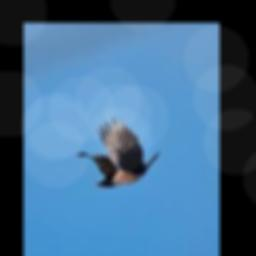Crow: (75, 118, 160, 188)
